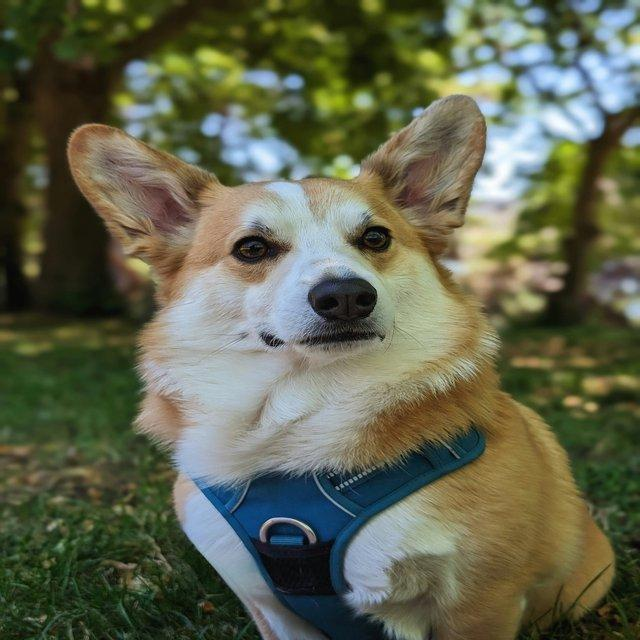corgi: (64, 93, 616, 638)
